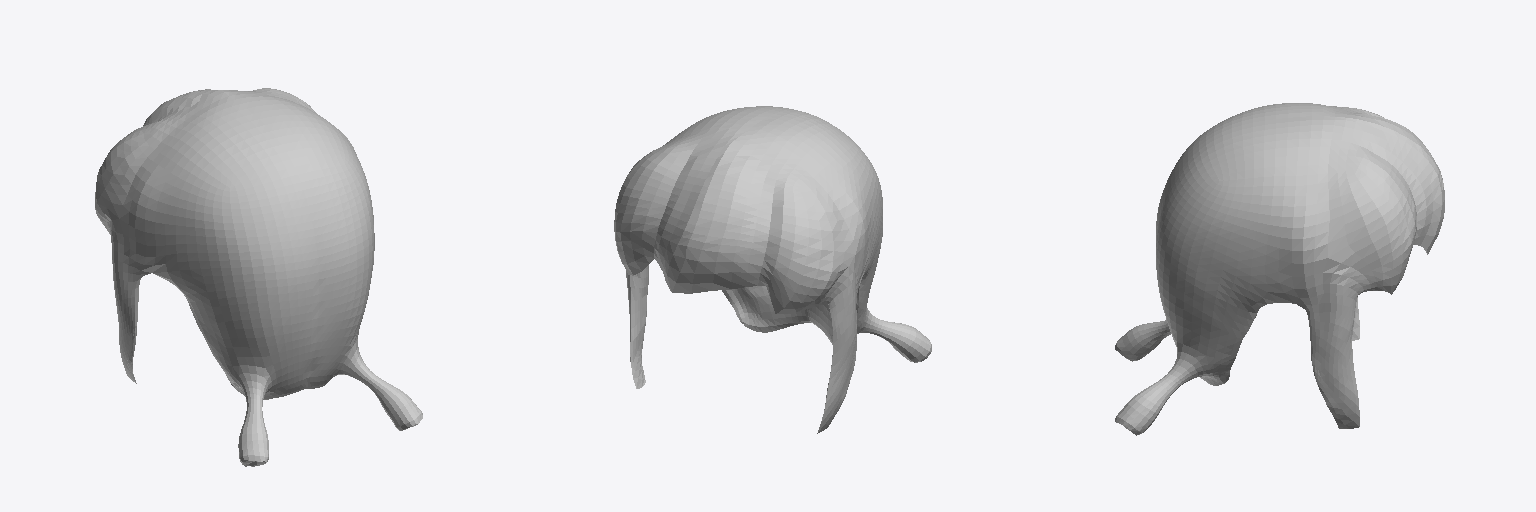
File: sparse_hair.obj
3 renders of one model, left to right at view 1: azimuth 30°, elevation 25°; view 2: azimuth 150°, elevation 25°; view 3: azimuth 270°, elevation 25°, orthographic.
Visible parts, largest first — view 1: Group3, Group5; view 2: Group3, Group4, Group5; view 3: Group3, Group5.
Part boxes in pixels (x1,y1,x2,y2): Group3: (95, 88, 374, 399); Group5: (232, 339, 422, 466); Group3: (614, 106, 882, 433); Group4: (630, 258, 859, 409); Group5: (858, 308, 931, 362); Group3: (1156, 103, 1444, 428); Group5: (1115, 320, 1207, 435).
Bounding box in the file's own units: 1.16 × 1.37 × 1.47.